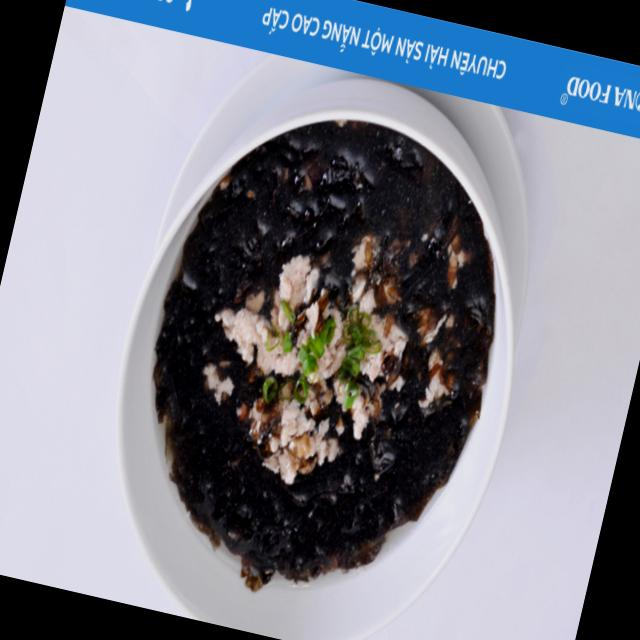canh rong bien: (157, 120, 496, 592)
